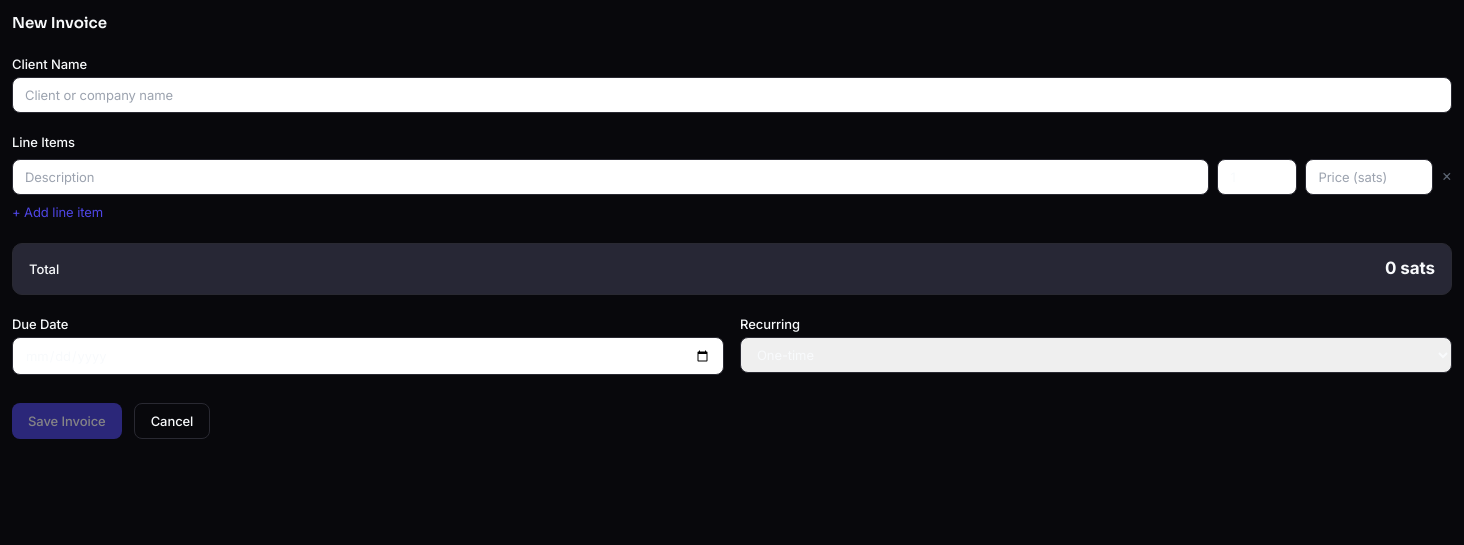
Scenario: InvoiceEditor › Adding line items › adds multiple line items correctly
This screenshot has width=1464, height=545.
Click the button "+ Add line item". click: (58, 212)
box: [12,203,103,222]
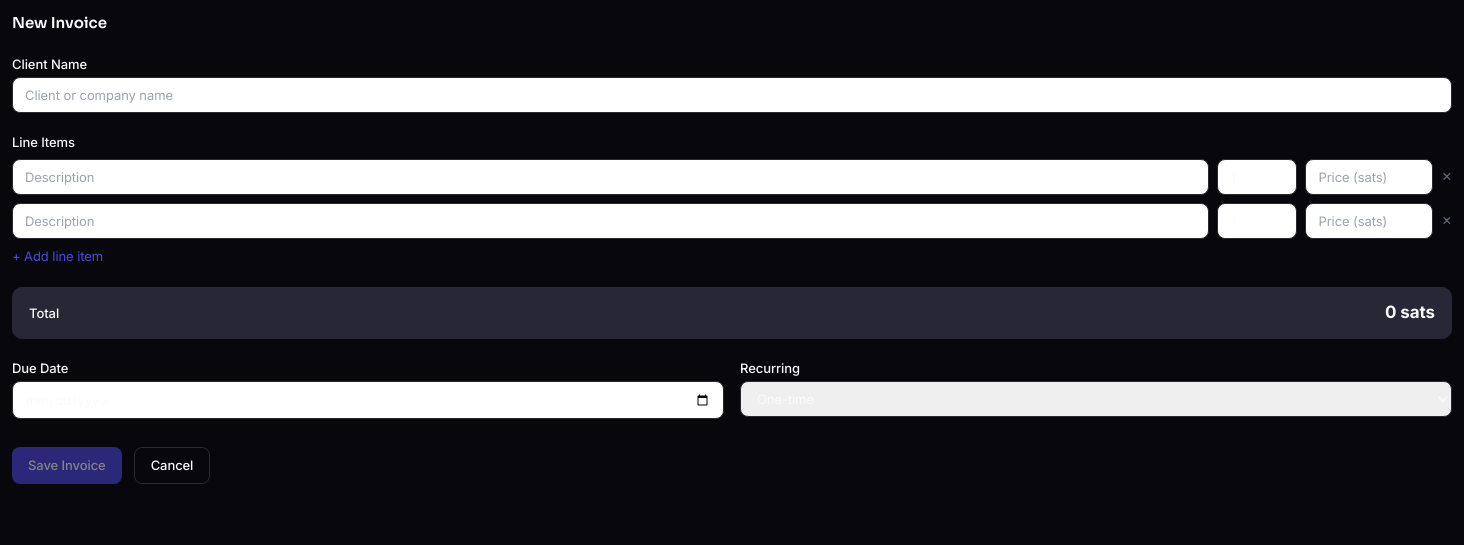
Click the button "+ Add line item". click: (58, 256)
box: [12,247,103,266]
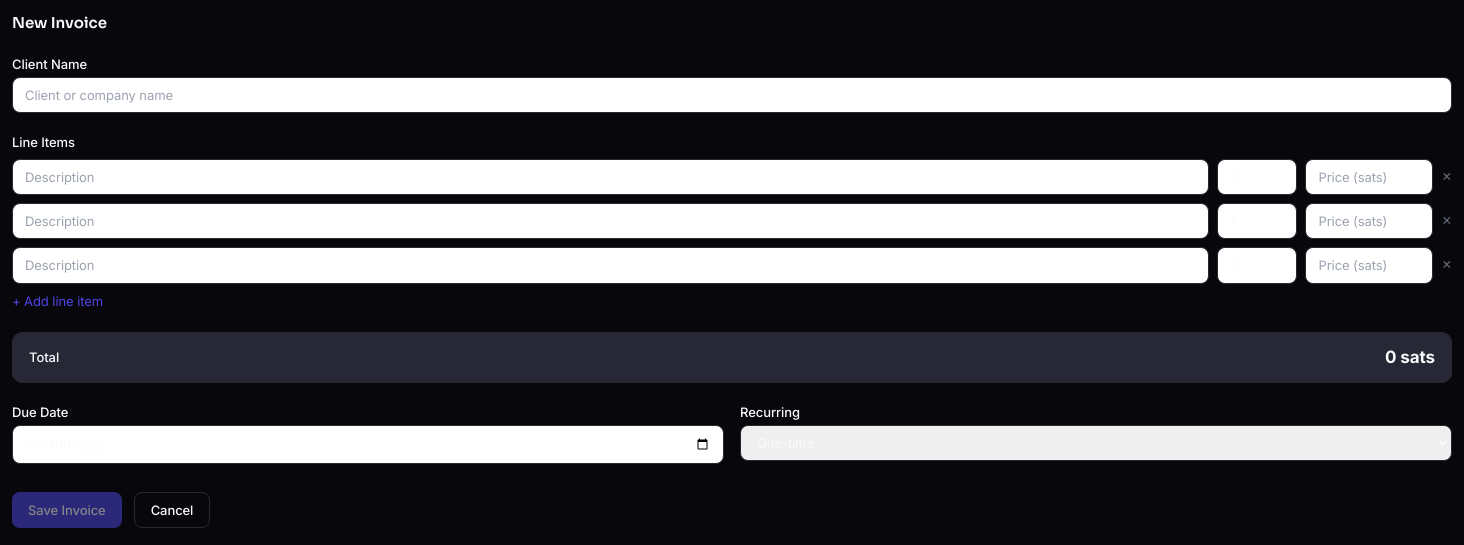
Expected: the field named "Line item 3 description" is shown, [12,247,1209,284]
